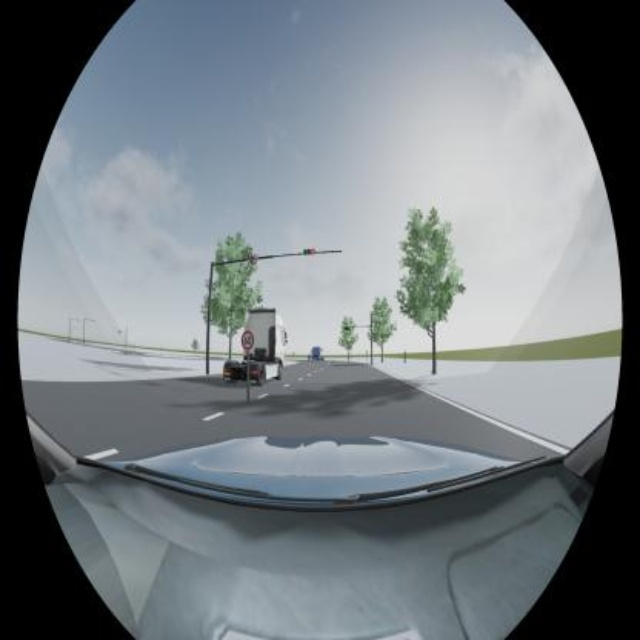Tốc độ tối đa cho phép 80km/h: (242, 331, 254, 350)
Đèn xanh: (344, 326, 352, 331)
Đèn đỏ: (303, 248, 316, 257)
